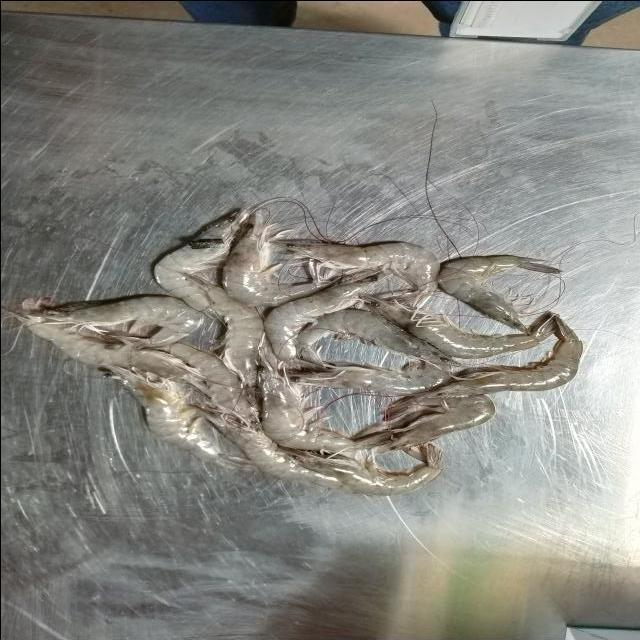shrimp: (388, 316, 582, 414), (104, 366, 255, 470), (22, 319, 206, 390), (363, 296, 554, 359), (197, 410, 343, 489), (273, 240, 439, 306), (257, 350, 361, 452), (264, 275, 379, 361), (222, 211, 326, 306), (436, 255, 560, 331), (297, 309, 461, 366), (25, 296, 204, 348), (153, 211, 246, 311), (277, 444, 441, 496), (352, 395, 494, 452), (206, 286, 264, 386), (157, 342, 242, 410), (288, 360, 452, 395)
